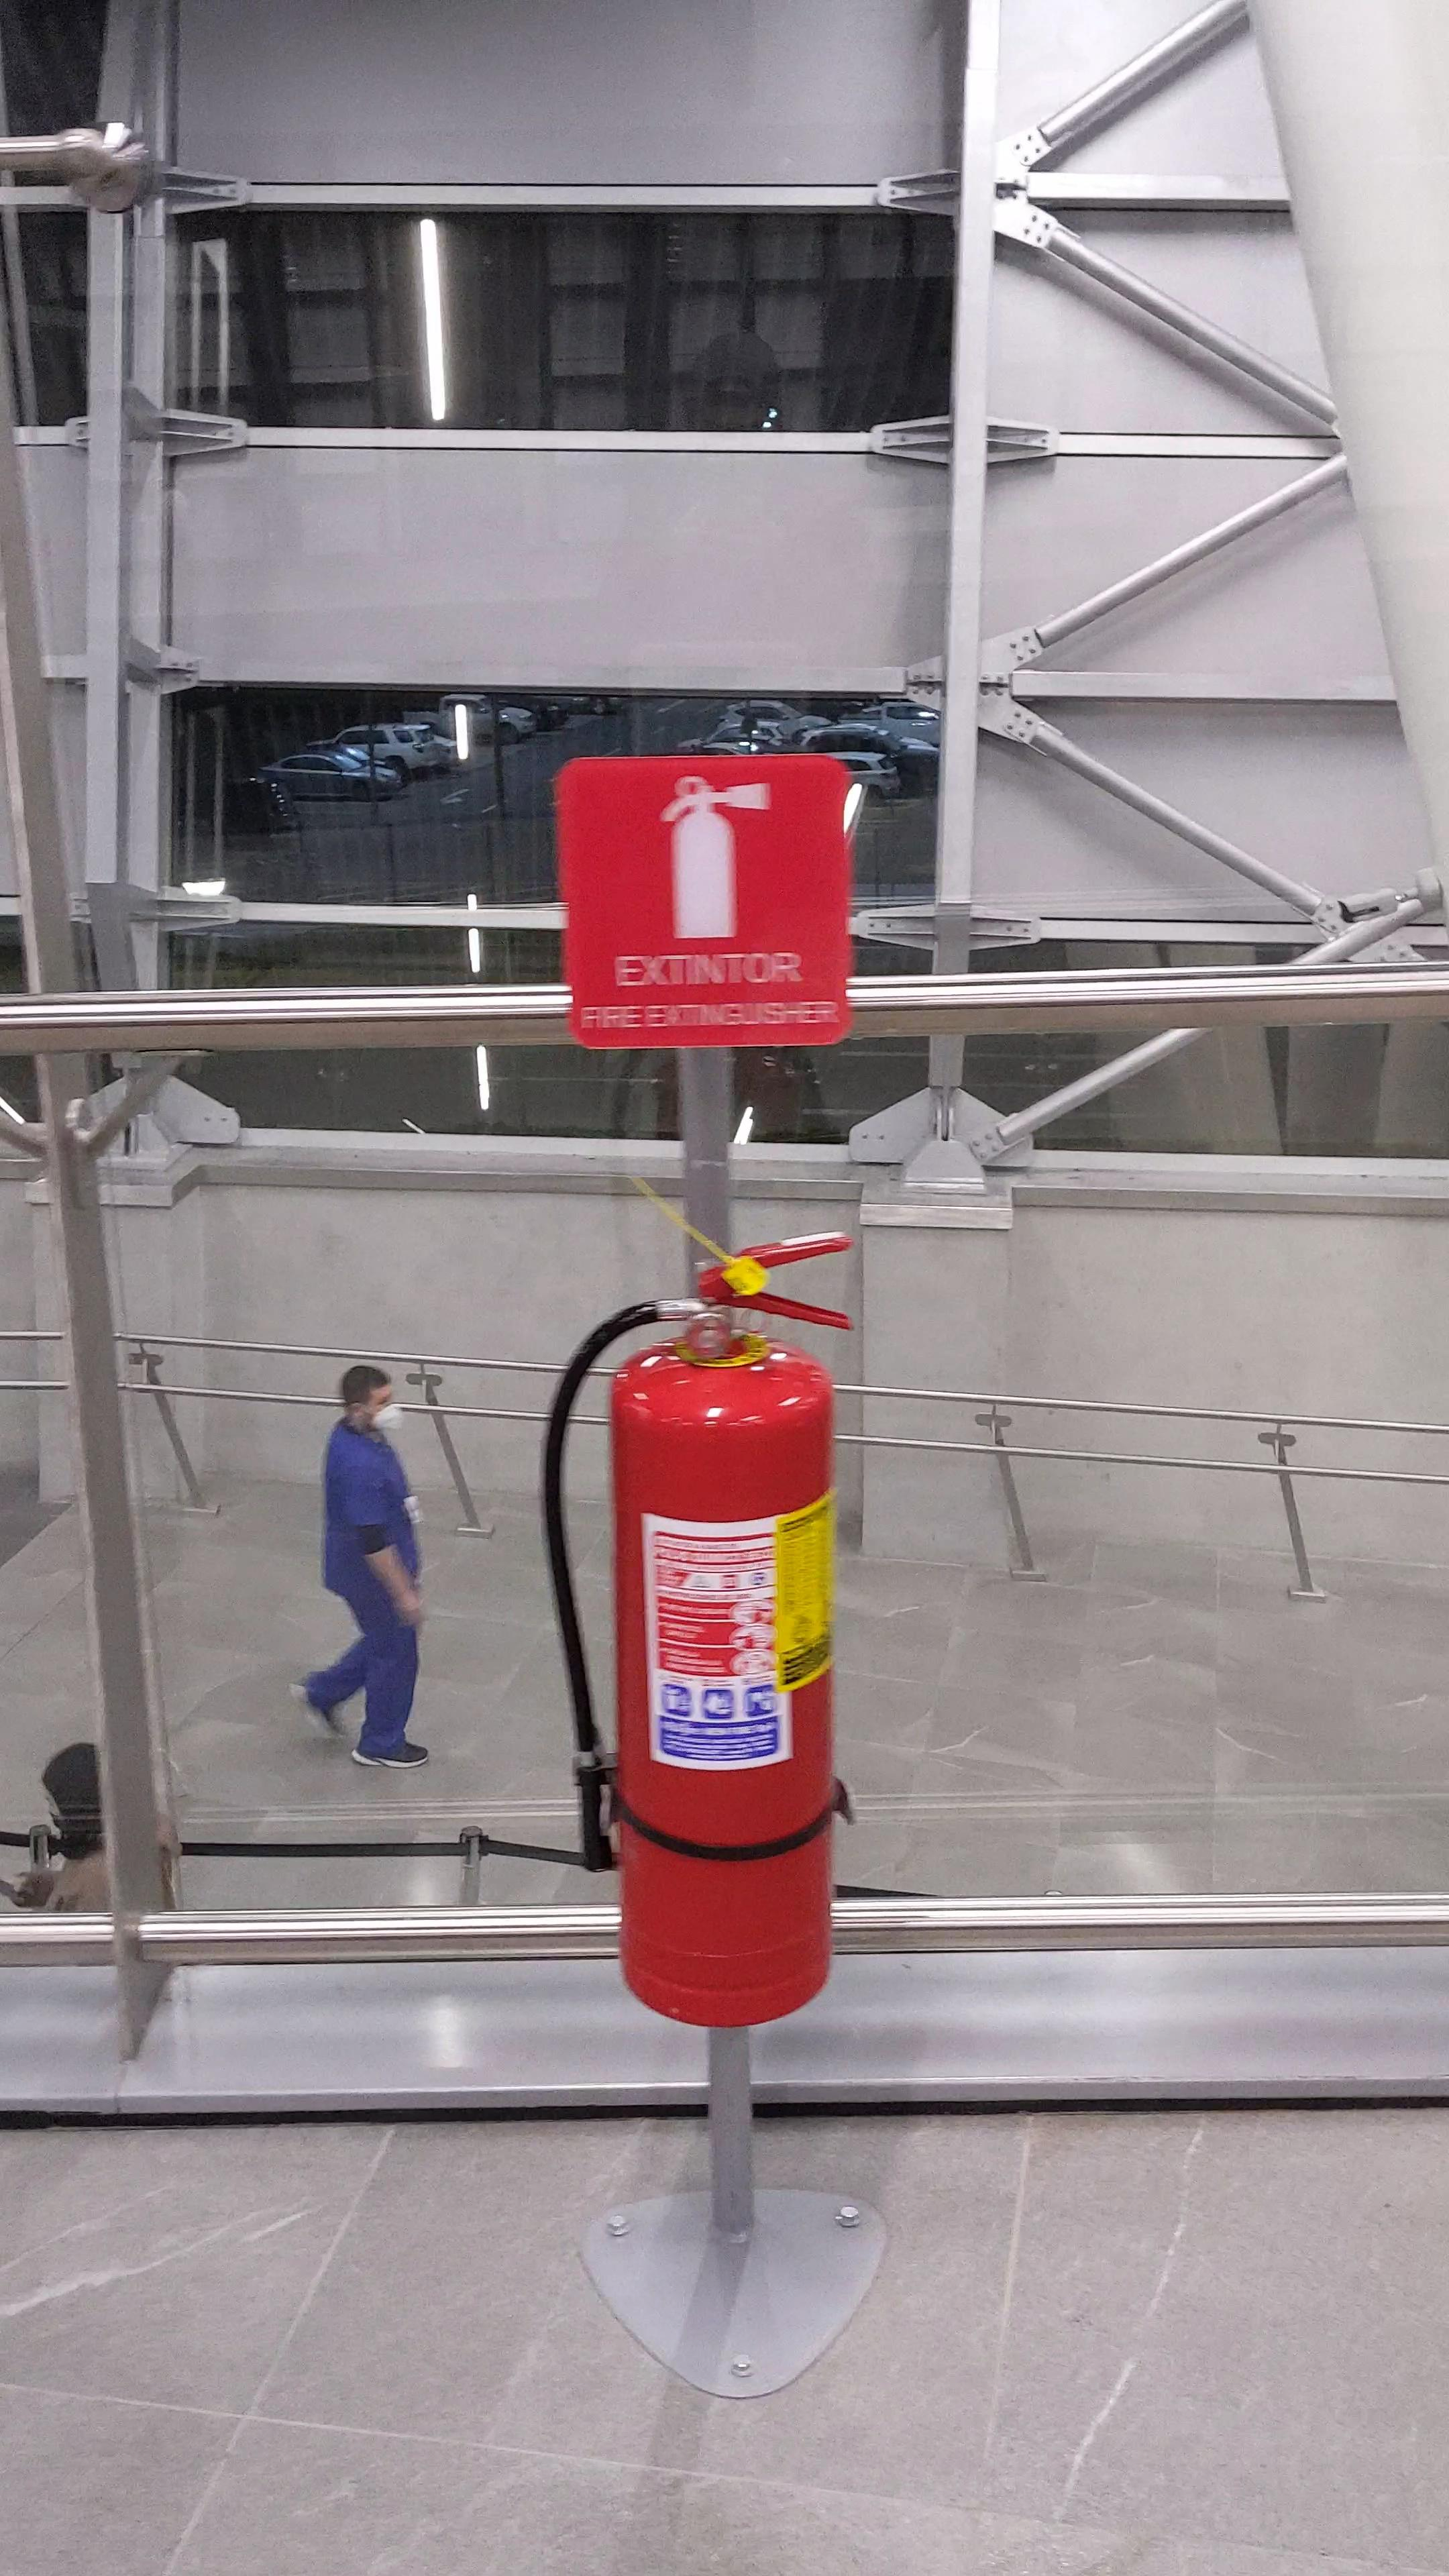extinguisher symbol: (651, 768, 778, 950)
fire-extinguisher: (525, 1226, 855, 2036)
